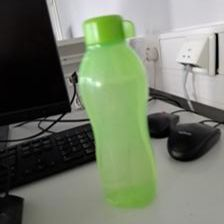bottle: (76, 12, 159, 208)
